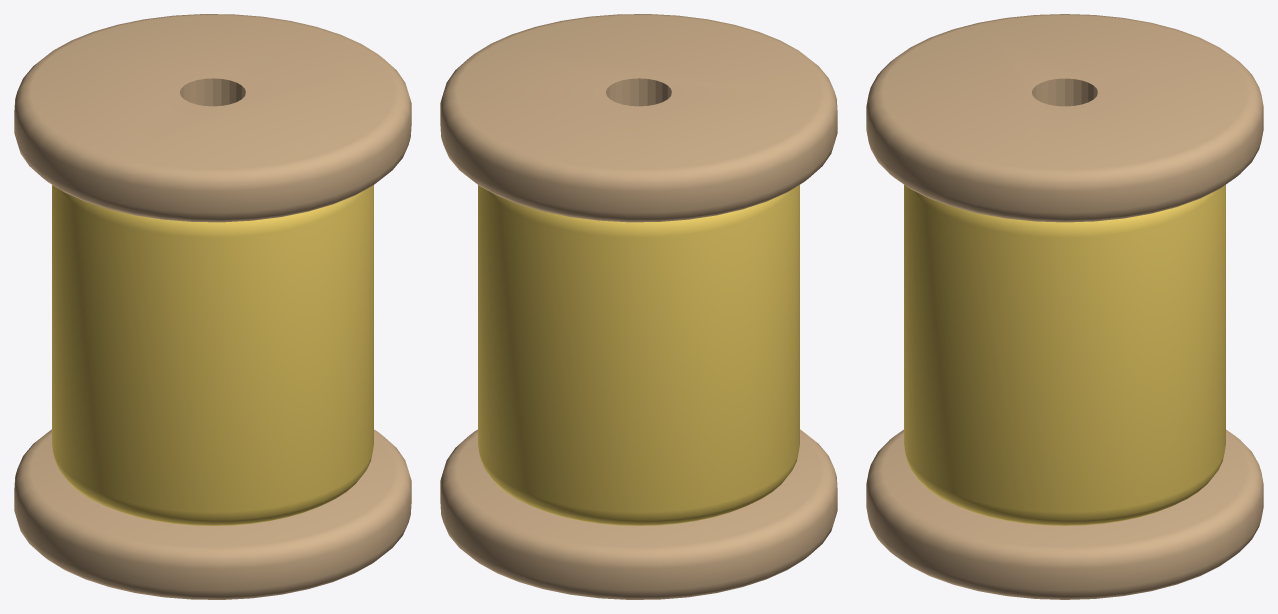
The model's file is spool.glb.
The picture shows the model from 3 angles, left to right: view 1: azimuth 30°, elevation 25°; view 2: azimuth 150°, elevation 25°; view 3: azimuth 270°, elevation 25°; orthographic projection.
Parts seen in each view (by area): view 1: Body, Thread; view 2: Body, Thread; view 3: Body, Thread.
Part boxes in pixels (left/top/right/bottom): Body: left=14, top=14, right=411, bottom=599; Thread: left=52, top=185, right=373, bottom=525; Body: left=440, top=14, right=837, bottom=599; Thread: left=478, top=185, right=799, bottom=525; Body: left=866, top=14, right=1263, bottom=599; Thread: left=904, top=185, right=1225, bottom=525.
Size of the model in its own units: 0.84 by 1 by 0.84.
